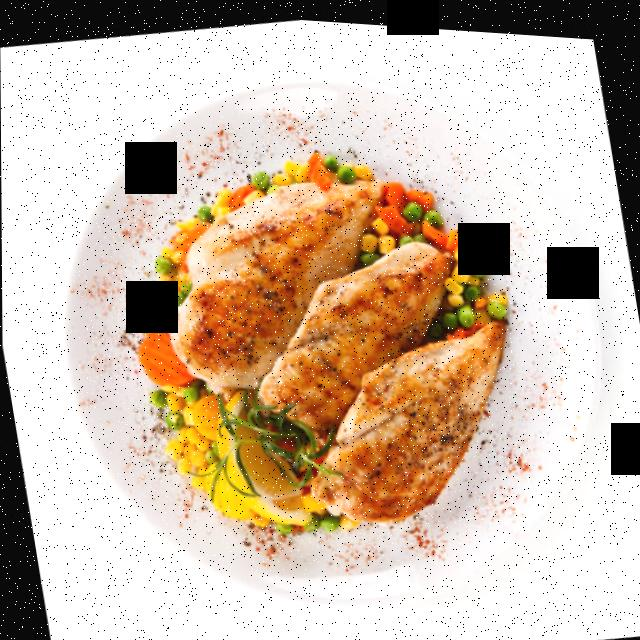Frango: (143, 128, 539, 559)
